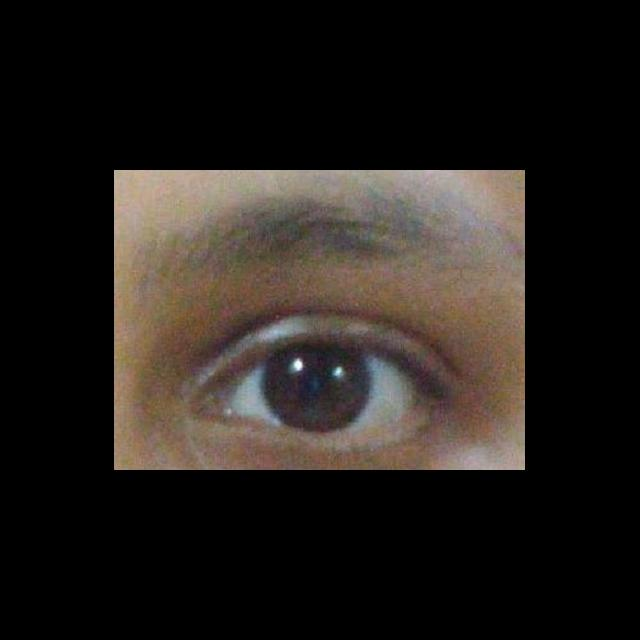eye: (235, 346, 418, 431)
iris: (265, 349, 373, 432)
